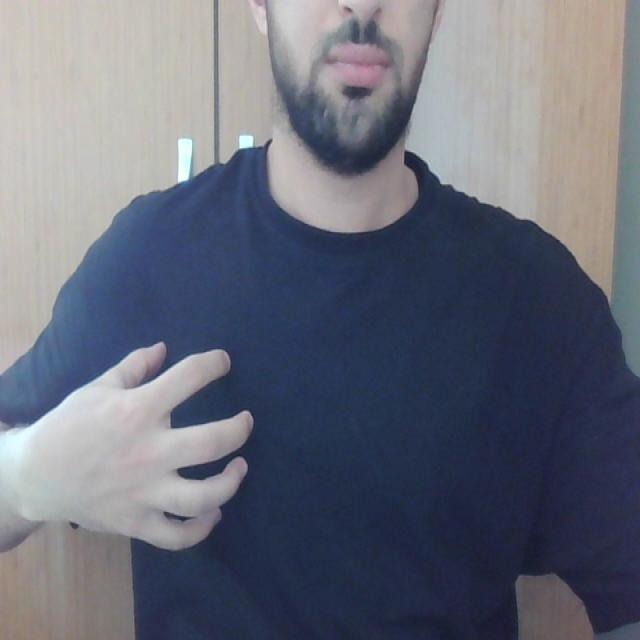Anne: (5, 332, 274, 556)
